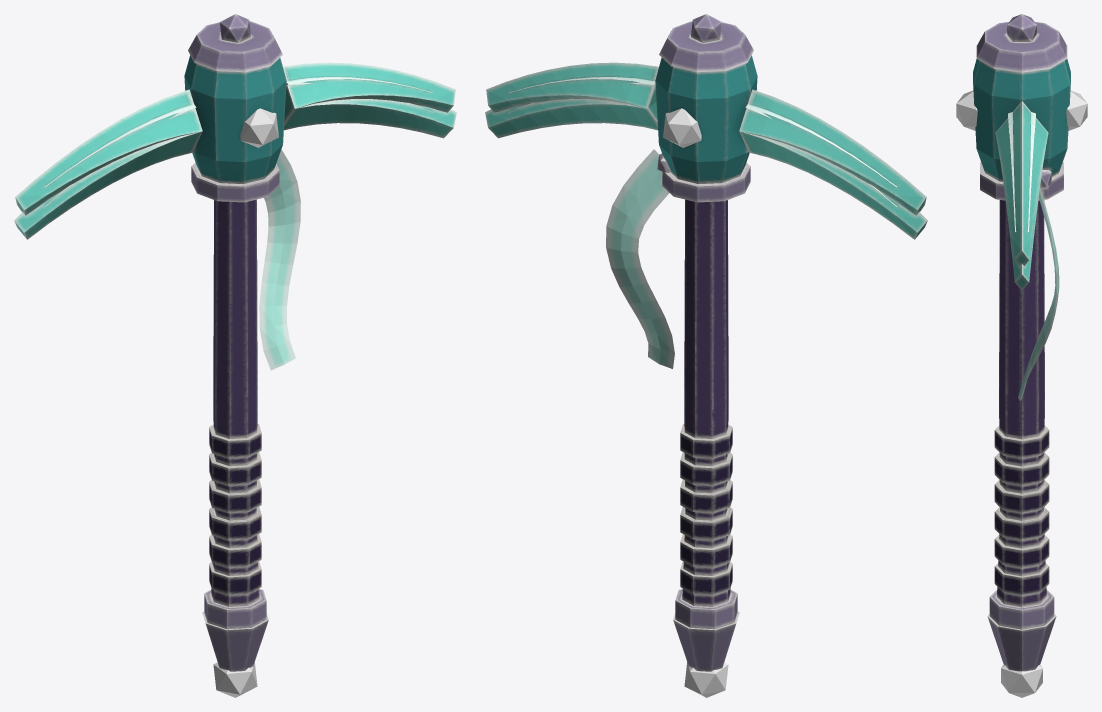
The model's file is SongcrystalPickaxe.glb.
3 views of the same model, side by side, from view 1: azimuth 30°, elevation 25°; view 2: azimuth 150°, elevation 25°; view 3: azimuth 270°, elevation 25° (orthographic).
Visible parts, largest first — view 1: Body__Tex, Head__Gem; view 2: Body__Tex, Head__Gem; view 3: Body__Tex, Head__Gem.
Part boxes in pixels (x1=…): Body__Tex: x1=14, y1=14, x2=456, y2=671; Head__Gem: x1=213, y1=108, x2=278, y2=697; Body__Tex: x1=485, y1=14, x2=927, y2=671; Head__Gem: x1=663, y1=108, x2=728, y2=697; Body__Tex: x1=973, y1=14, x2=1070, y2=671; Head__Gem: x1=956, y1=90, x2=1087, y2=697.
Bounding box in the file's own units: 2.89 × 4.26 × 0.7412.
1 material, 1 textured.
